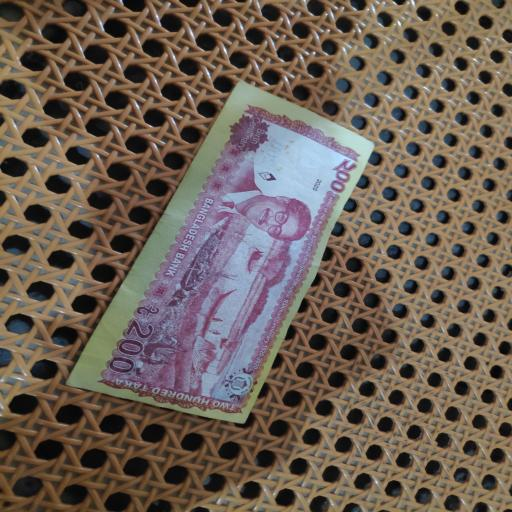200taka: (64, 77, 379, 428)
